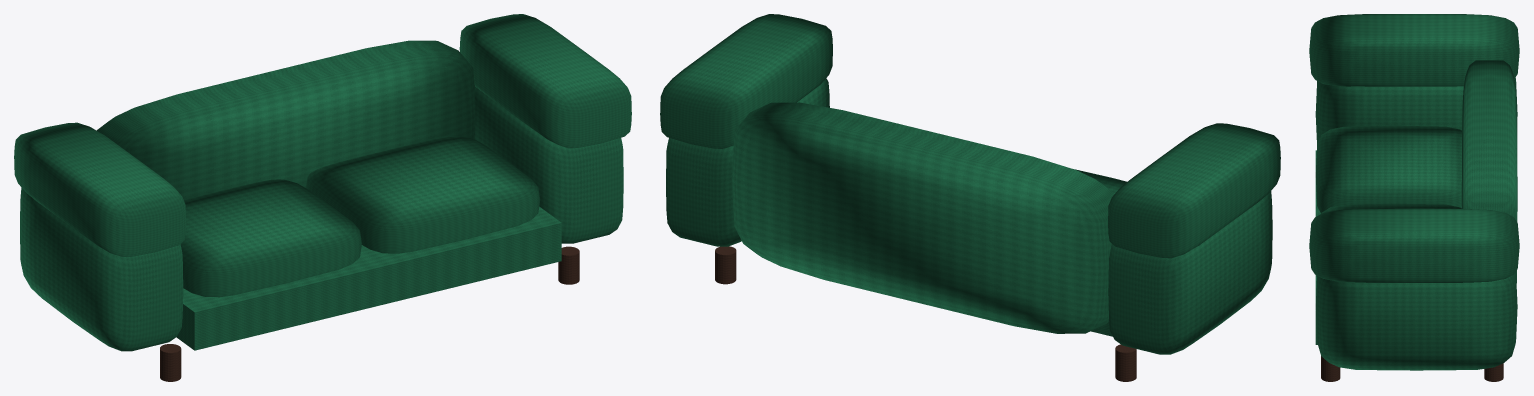
3 renders of one model, left to right at view 1: azimuth 30°, elevation 25°; view 2: azimuth 150°, elevation 25°; view 3: azimuth 270°, elevation 25°, orthographic. The views are drawn at different scales.
Visible parts, largest first — view 1: 4 backrest, 3 right_seat_cushion, 1 base_apron, 2 left_seat_cushion, 5 left_arm_base, 6 left_arm_roll, 8 right_arm_roll, 7 right_arm_base, 9 front_left_leg, 10 front_right_leg; view 2: 4 backrest, 5 left_arm_base, 6 left_arm_roll, 8 right_arm_roll, 7 right_arm_base, 12 back_right_leg, 11 back_left_leg; view 3: 7 right_arm_base, 8 right_arm_roll, 6 left_arm_roll, 2 left_seat_cushion, 4 backrest, 5 left_arm_base, 3 right_seat_cushion, 10 front_right_leg, 12 back_right_leg, 1 base_apron.
Boxes of the visible parts, x1=… form: 4 backrest: x1=97, y1=40, x2=475, y2=199; 3 right_seat_cushion: x1=306, y1=135, x2=540, y2=253; 1 base_apron: x1=176, y1=206, x2=561, y2=350; 2 left_seat_cushion: x1=180, y1=179, x2=361, y2=297; 5 left_arm_base: x1=20, y1=187, x2=183, y2=351; 6 left_arm_roll: x1=14, y1=122, x2=186, y2=256; 8 right_arm_roll: x1=459, y1=14, x2=631, y2=148; 7 right_arm_base: x1=474, y1=86, x2=623, y2=243; 9 front_left_leg: x1=160, y1=344, x2=181, y2=381; 10 front_right_leg: x1=558, y1=246, x2=579, y2=284; 4 backrest: x1=732, y1=102, x2=1114, y2=333; 5 left_arm_base: x1=1108, y1=191, x2=1272, y2=354; 6 left_arm_roll: x1=1108, y1=123, x2=1280, y2=258; 8 right_arm_roll: x1=660, y1=14, x2=832, y2=148; 7 right_arm_base: x1=666, y1=78, x2=829, y2=246; 12 back_right_leg: x1=715, y1=246, x2=736, y2=284; 11 back_left_leg: x1=1115, y1=344, x2=1136, y2=381; 7 right_arm_base: x1=1315, y1=272, x2=1517, y2=370; 8 right_arm_roll: x1=1309, y1=208, x2=1519, y2=282; 6 left_arm_roll: x1=1309, y1=14, x2=1519, y2=86; 2 left_seat_cushion: x1=1315, y1=125, x2=1461, y2=213; 4 backrest: x1=1461, y1=60, x2=1517, y2=282; 5 left_arm_base: x1=1315, y1=77, x2=1517, y2=143; 3 right_seat_cushion: x1=1316, y1=203, x2=1461, y2=276; 10 front_right_leg: x1=1321, y1=356, x2=1340, y2=381; 12 back_right_leg: x1=1484, y1=363, x2=1503, y2=381; 1 base_apron: x1=1315, y1=150, x2=1320, y2=344.
Size of the model in its own units: 2.93 by 1 by 1.14.
Materials: 2 (2 with a texture image).
